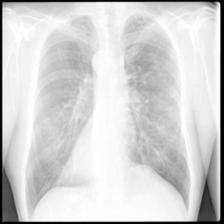tuberculosis: (22, 13, 195, 216)
